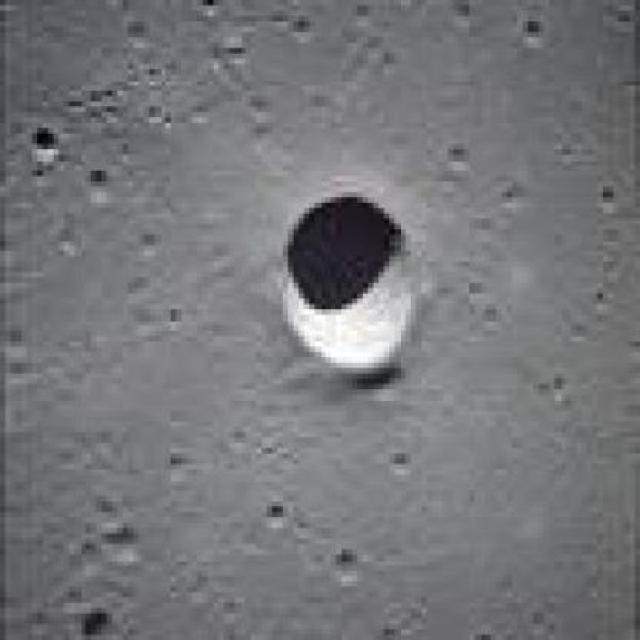crater: (272, 192, 420, 371)
